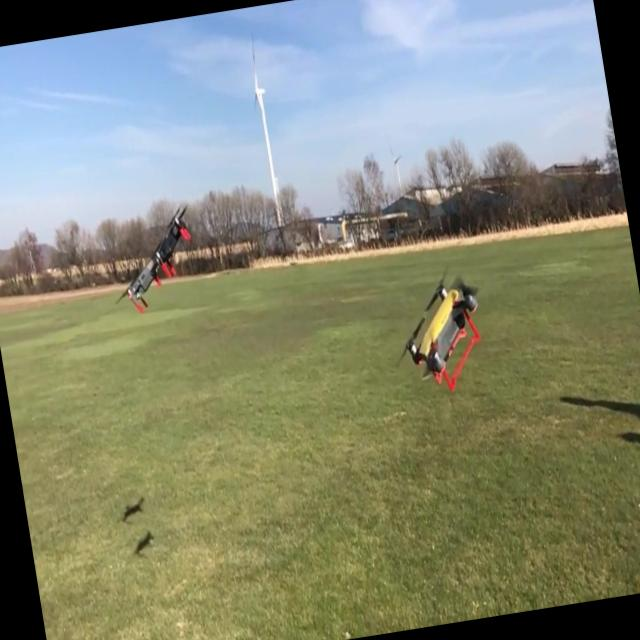drone: (379, 259, 496, 402), (147, 200, 200, 286), (110, 259, 158, 317)
